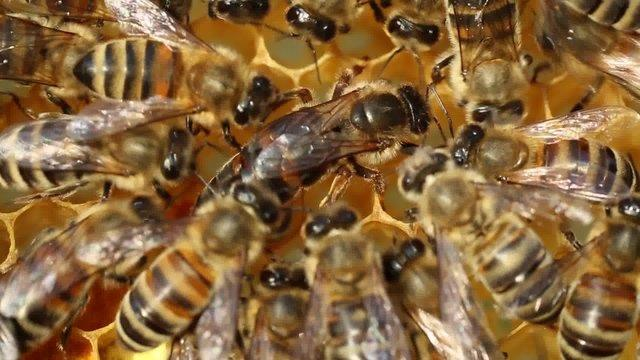Queen-Bee: (199, 70, 433, 202), (237, 57, 423, 216)
worker-bee: (114, 183, 288, 358), (4, 191, 158, 360), (294, 202, 410, 359), (69, 36, 283, 116), (0, 118, 195, 196), (453, 117, 636, 200), (557, 193, 639, 359), (536, 0, 639, 107), (385, 0, 445, 51)
